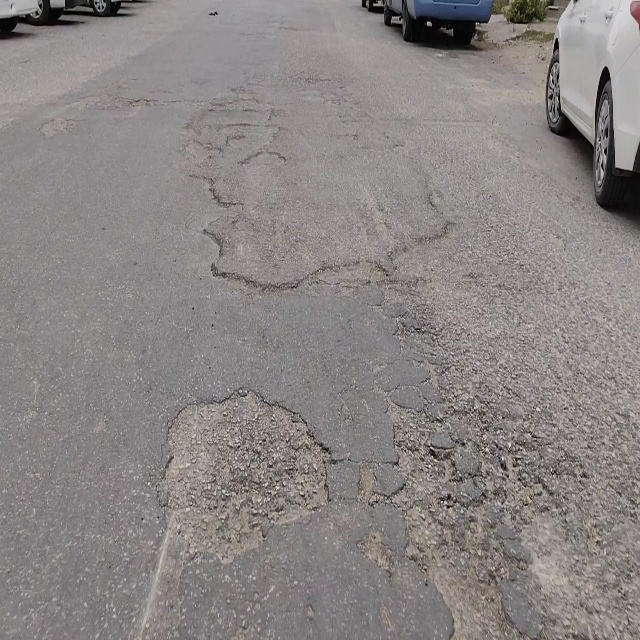pothole: (159, 383, 332, 564), (389, 429, 532, 639)
